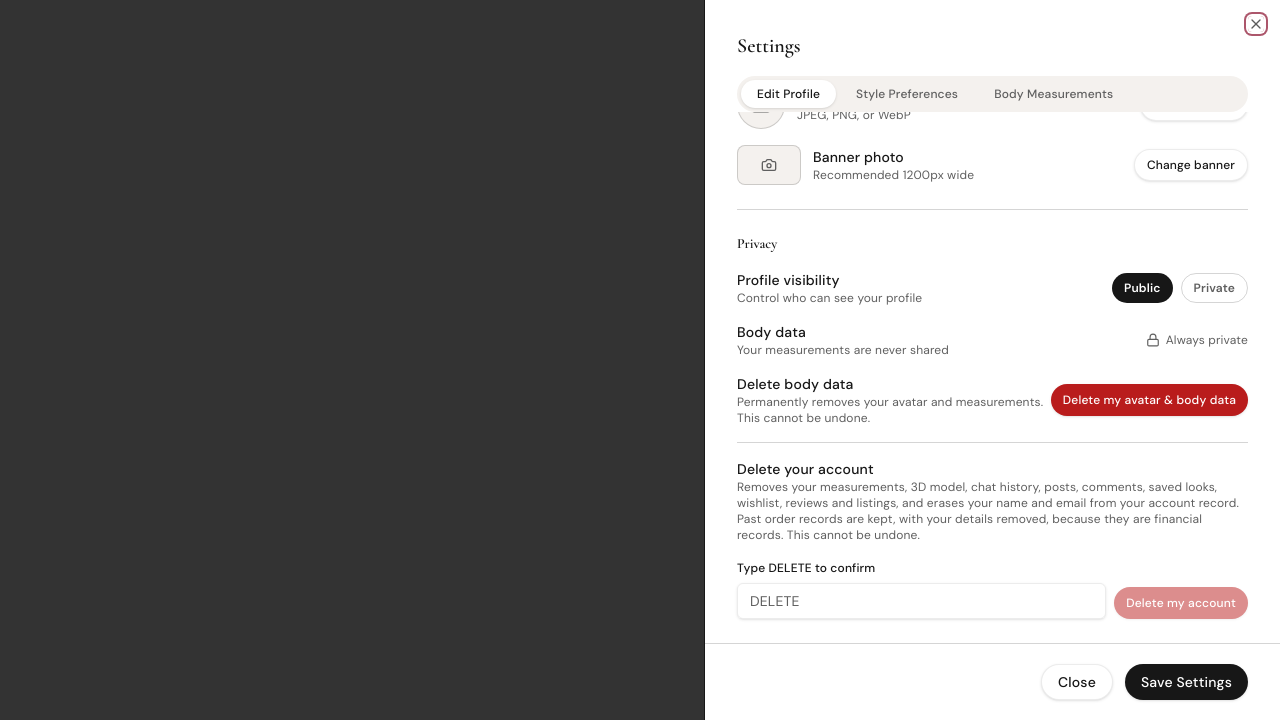
Test: ProfileSettingsDialog delete flow (M10/M11) › Cancel returns to the non-confirm state without deleting
(page scrolled)
Step 1. Click the button "Delete my avatar & body data" → click(1149, 400), box [1051,384,1248,416]
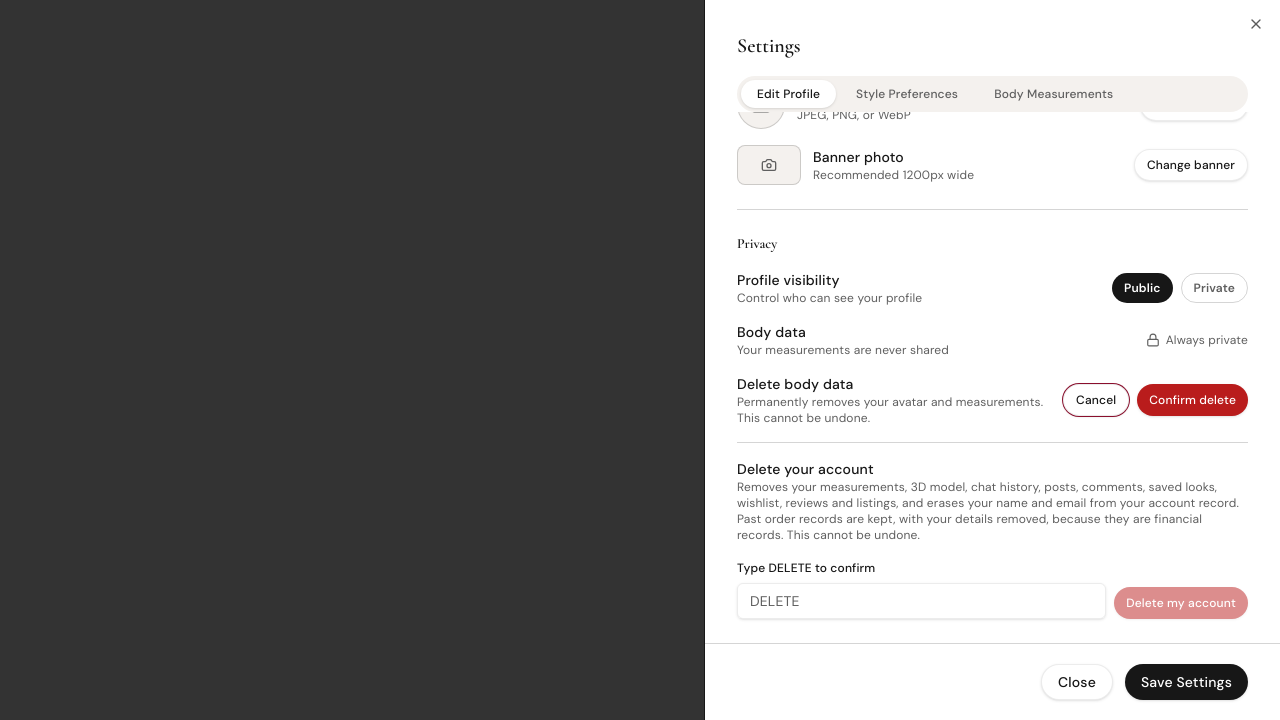
Step 2. Click the button "Cancel" → click(1096, 400), box [1063,384,1129,416]
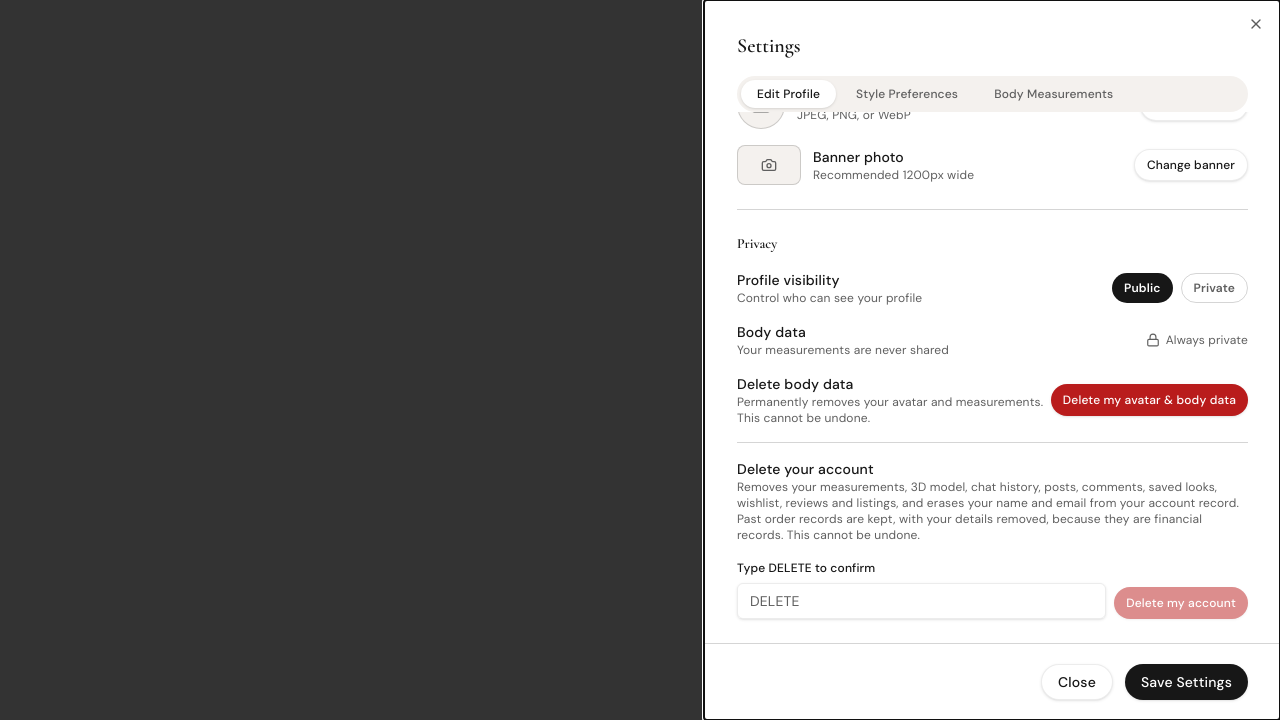
Expected: the button "Delete my avatar & body data" is shown, [1051,384,1248,416]
